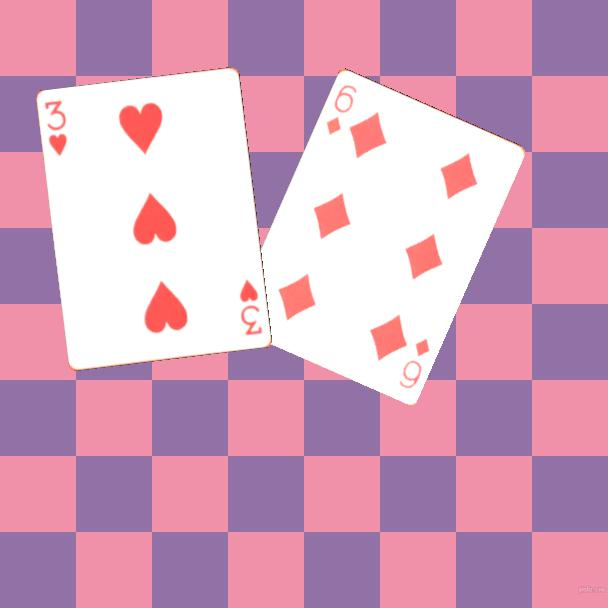d06: (322, 81, 360, 137), (395, 335, 433, 391)
h03: (236, 276, 265, 338), (41, 97, 70, 159)
